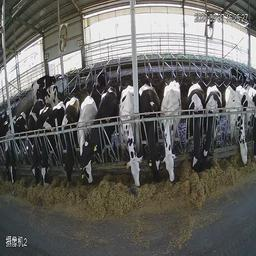cow: (79, 71, 116, 191), (116, 74, 147, 198), (156, 67, 184, 198), (179, 79, 206, 185), (137, 78, 163, 187), (61, 92, 85, 206), (41, 97, 66, 199), (226, 80, 252, 177), (22, 97, 46, 191), (1, 103, 26, 188), (202, 78, 221, 168), (32, 68, 59, 100)
